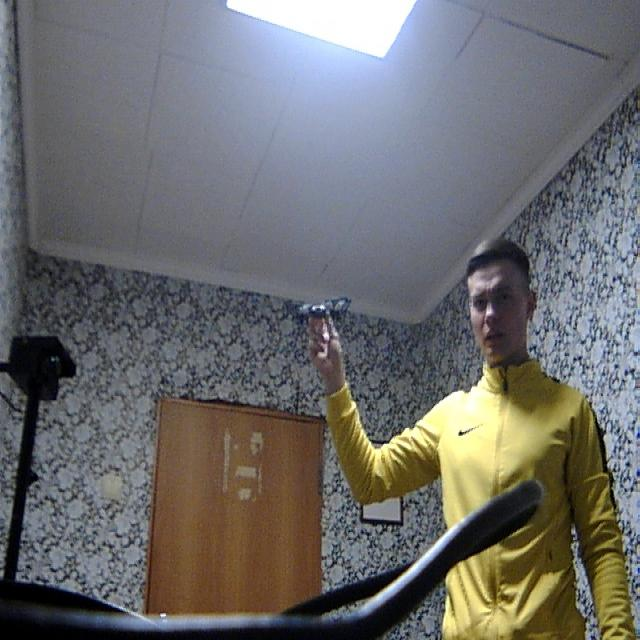drone: (276, 280, 351, 332)
